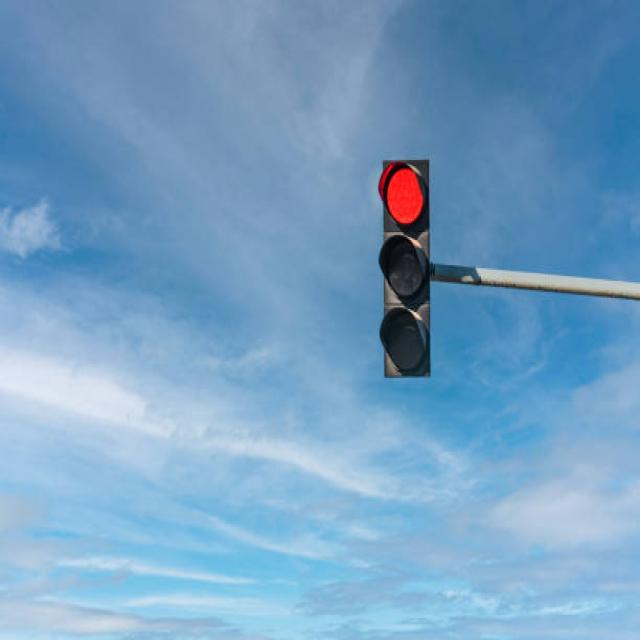red_light: (362, 119, 448, 407)
